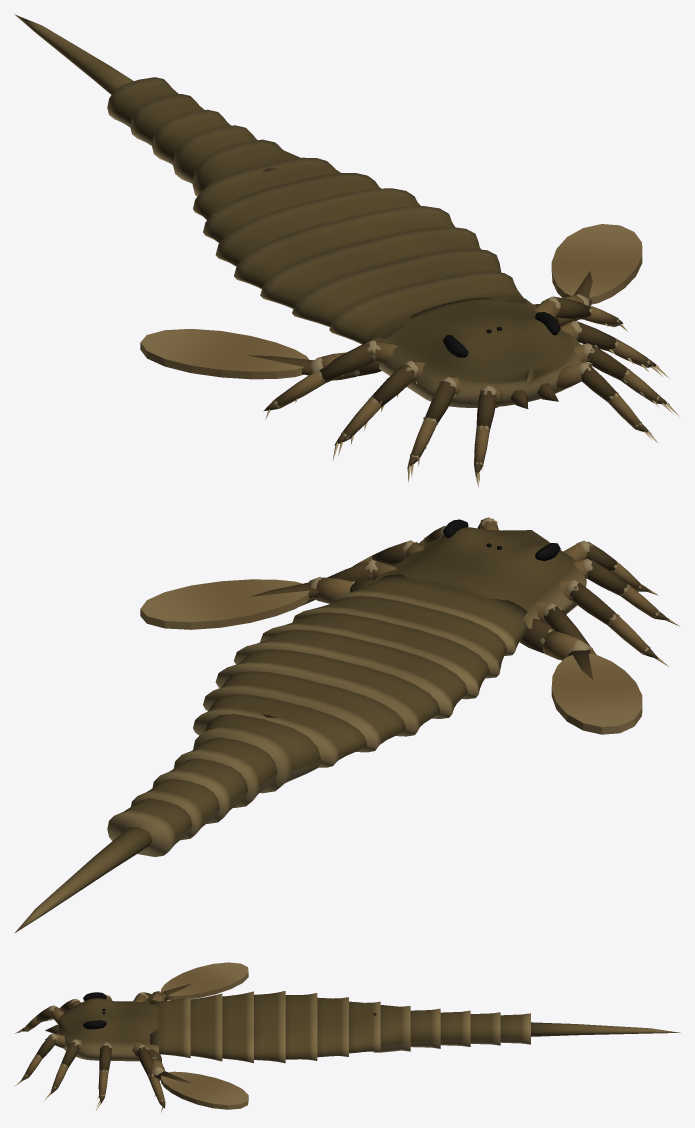
File: EurypterusRemipes.fbx
3 views of the same model, one above another, from view 1: azimuth 30°, elevation 25°; view 2: azimuth 150°, elevation 25°; view 3: azimuth 270°, elevation 25° (orthographic). The views are drawn at different scales.
Parts seen in each view (by area): view 1: EurypterusRemipes; view 2: EurypterusRemipes; view 3: EurypterusRemipes.
Boxes of the visible parts, x1,y1,x2,y2 form: EurypterusRemipes: [14, 14, 679, 487]; EurypterusRemipes: [15, 517, 680, 932]; EurypterusRemipes: [14, 962, 680, 1112].
Bounding box in the file's own units: 0.9457 × 0.1713 × 1.87.
